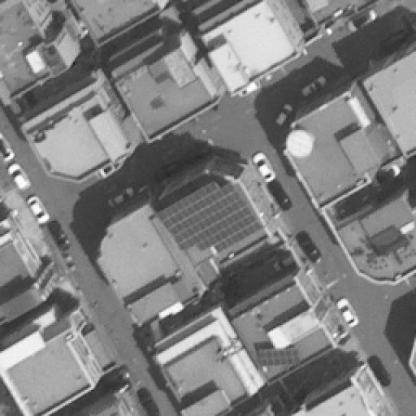solar-pv-panel: (156, 180, 263, 254), (255, 348, 300, 367)
